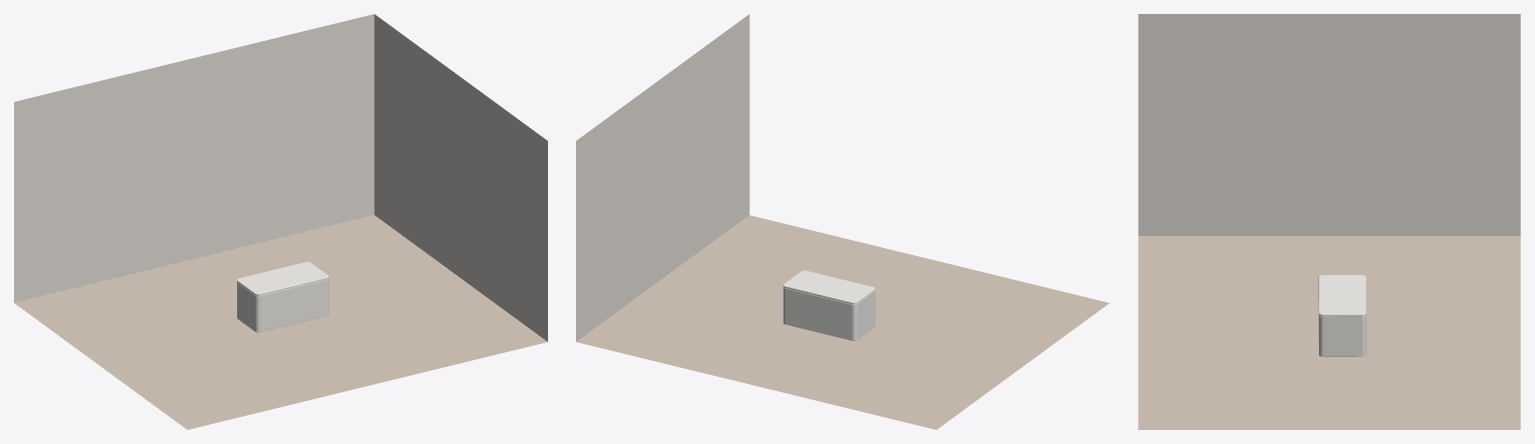
Rendered from mesa-infantil.glb.
3 renders of one model, left to right at view 1: azimuth 30°, elevation 25°; view 2: azimuth 150°, elevation 25°; view 3: azimuth 270°, elevation 25°, orthographic. The views are drawn at different scales.
Parts seen in each view (by area): view 1: sala, decoracion; view 2: sala, decoracion; view 3: sala, decoracion.
Part boxes in pixels (x1=…): sala: x1=14, y1=14, x2=547, y2=429; decoracion: x1=237, y1=262, x2=328, y2=332; sala: x1=576, y1=14, x2=1109, y2=429; decoracion: x1=783, y1=270, x2=875, y2=340; sala: x1=1138, y1=14, x2=1520, y2=429; decoracion: x1=1318, y1=275, x2=1366, y2=356.
Size of the model in its own units: 6 by 3.2 by 5.
